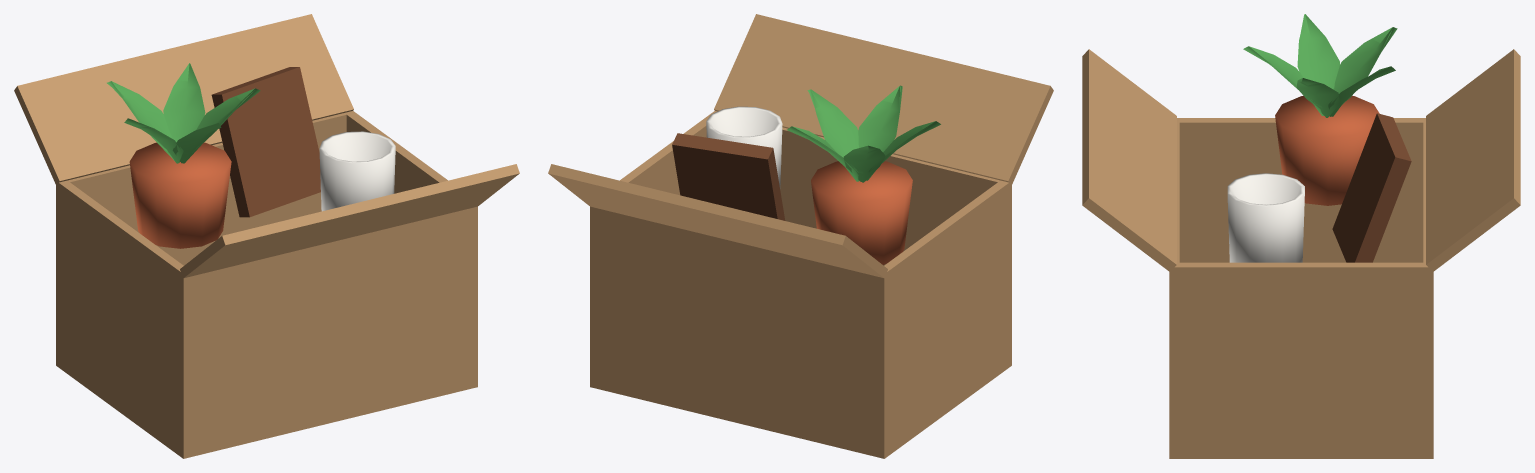
Rendered from RmBox.fbx.
3 views of the same model, side by side, from view 1: azimuth 30°, elevation 25°; view 2: azimuth 150°, elevation 25°; view 3: azimuth 270°, elevation 25° (orthographic). The views are drawn at different scales.
Parts seen in each view (by area): view 1: RmBoxBody; view 2: RmBoxBody; view 3: RmBoxBody.
Part boxes in pixels (box(x1,y1,x2,y2)): RmBoxBody: box(14, 14, 519, 458); RmBoxBody: box(548, 14, 1053, 458); RmBoxBody: box(1082, 14, 1520, 458).
Bounding box in the file's own units: 0.4 × 0.3767 × 0.4973.
